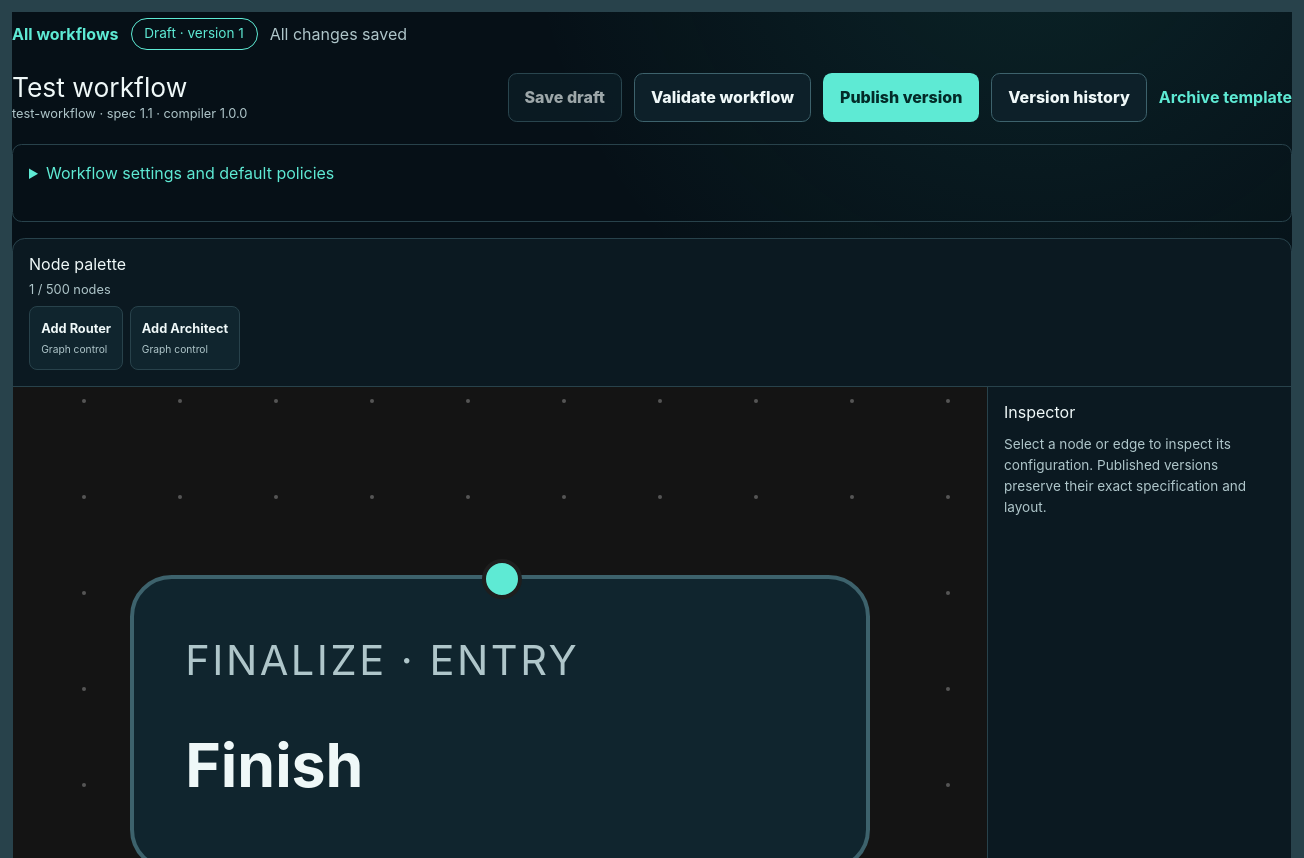
canonical Workflow Studio › displays final transactional publication rejection without claiming success
Click the button "Publish version" at point(901, 98), box x1=823 y1=73 x2=979 y2=122
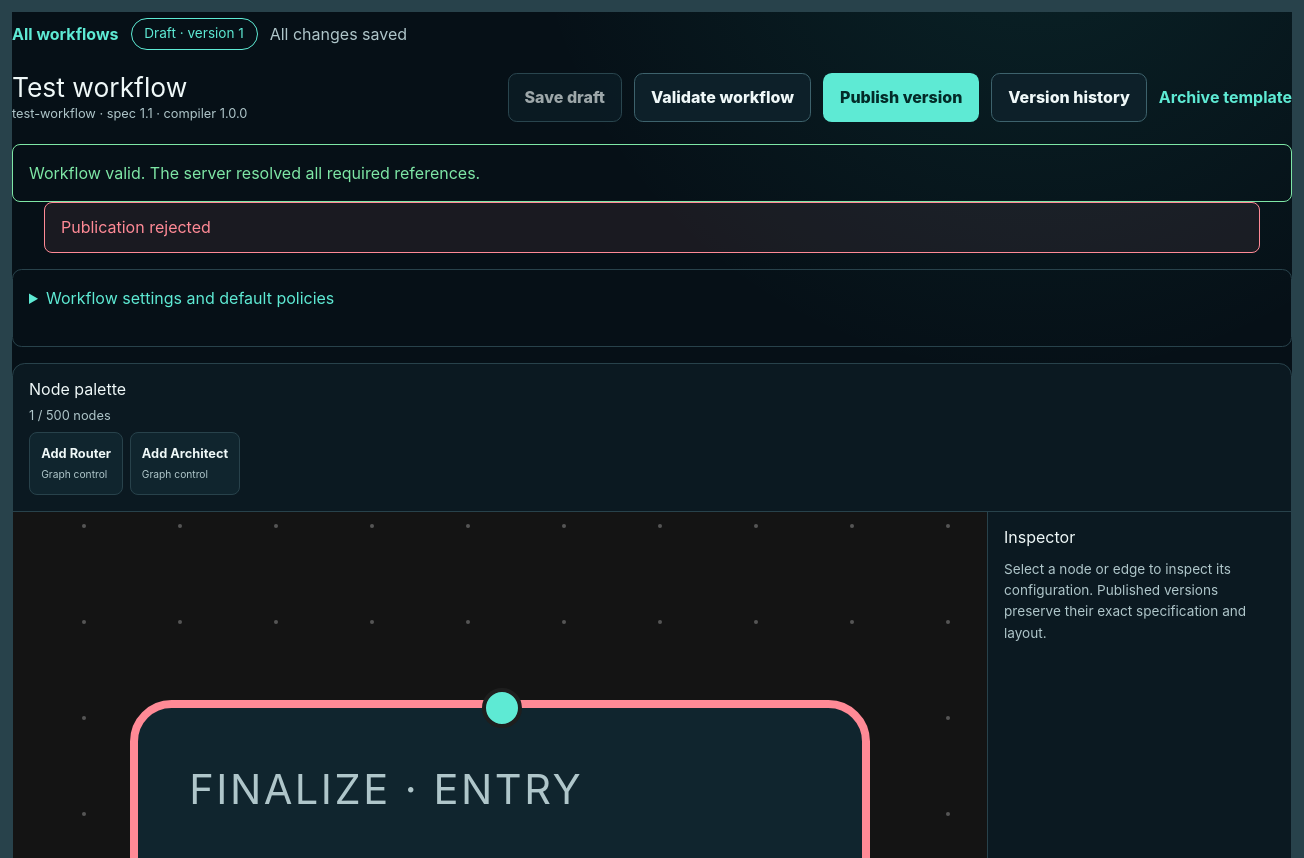
Check: the button "Add Router Graph control" is enabled, box x1=29 y1=432 x2=123 y2=495
Check: the message "Publication rejected" is shown, box x1=44 y1=202 x2=1260 y2=253
